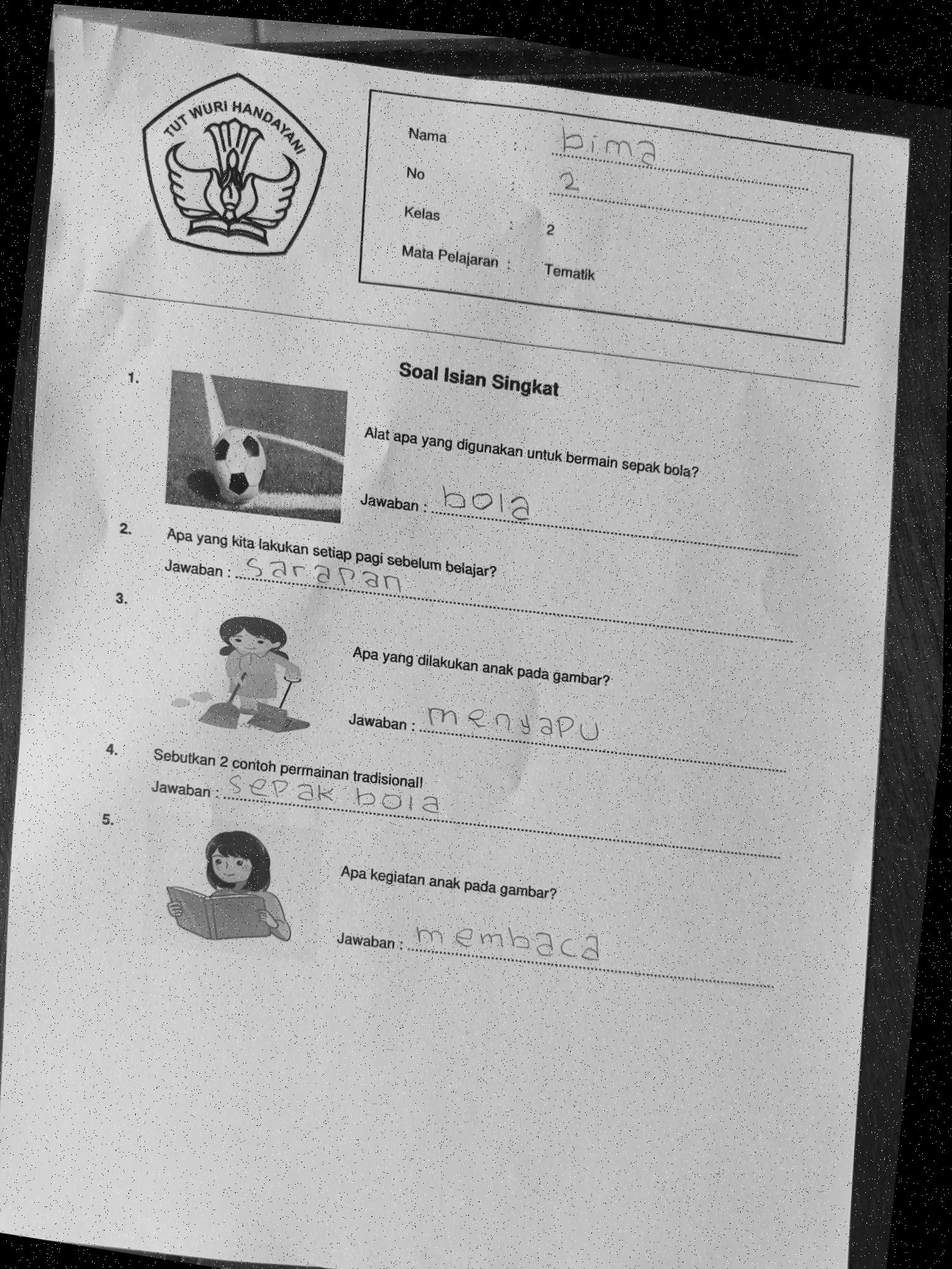soal-1: (111, 351, 822, 584)
soal-2: (108, 508, 812, 668)
soal-3: (105, 584, 812, 790)
soal-4: (91, 726, 813, 887)
soal-5: (86, 807, 818, 1007)
